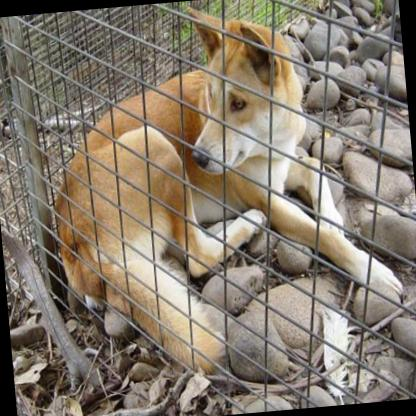dingo: (37, 0, 407, 385)
